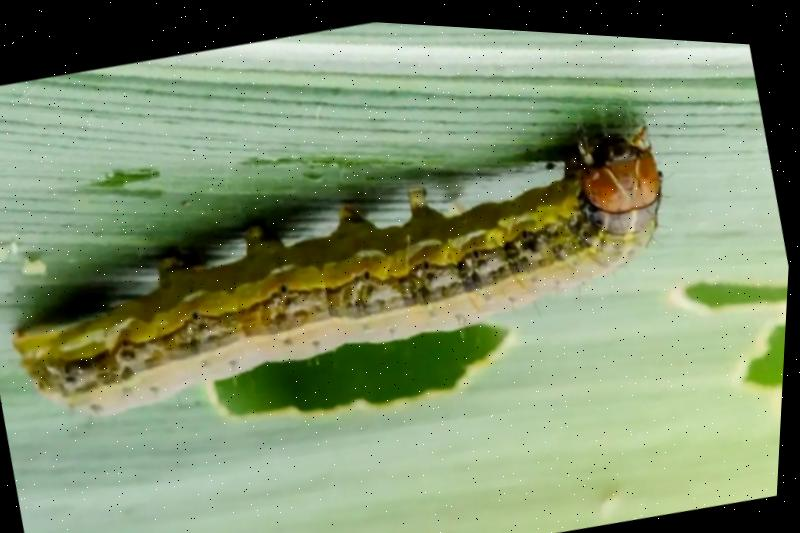fall-armyworm: (15, 118, 666, 415)
